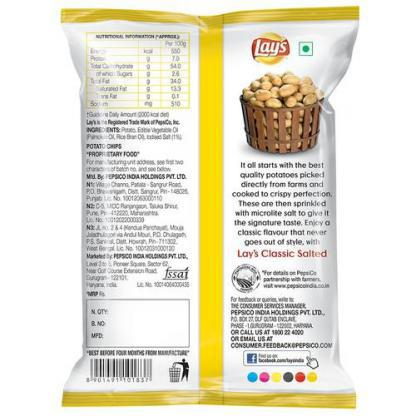classicsalted: (59, 5, 358, 408)
